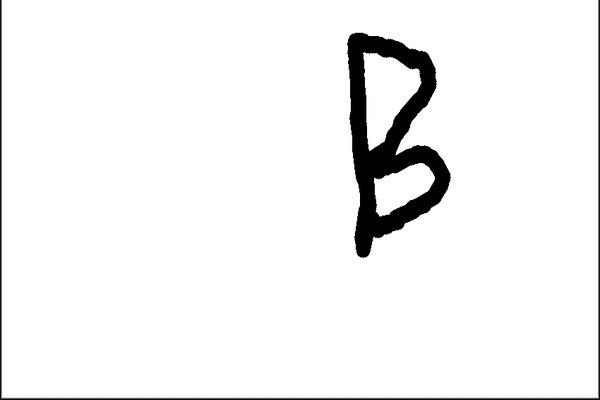B: (337, 24, 453, 267)
